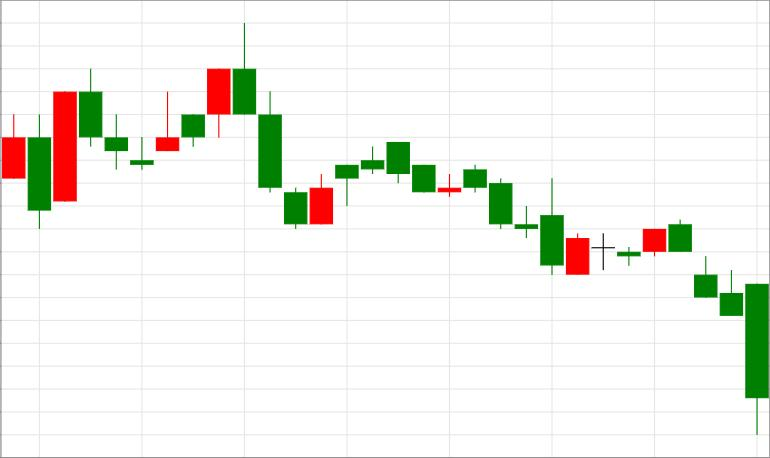three_black_crows_fall: (129, 22, 307, 229)
